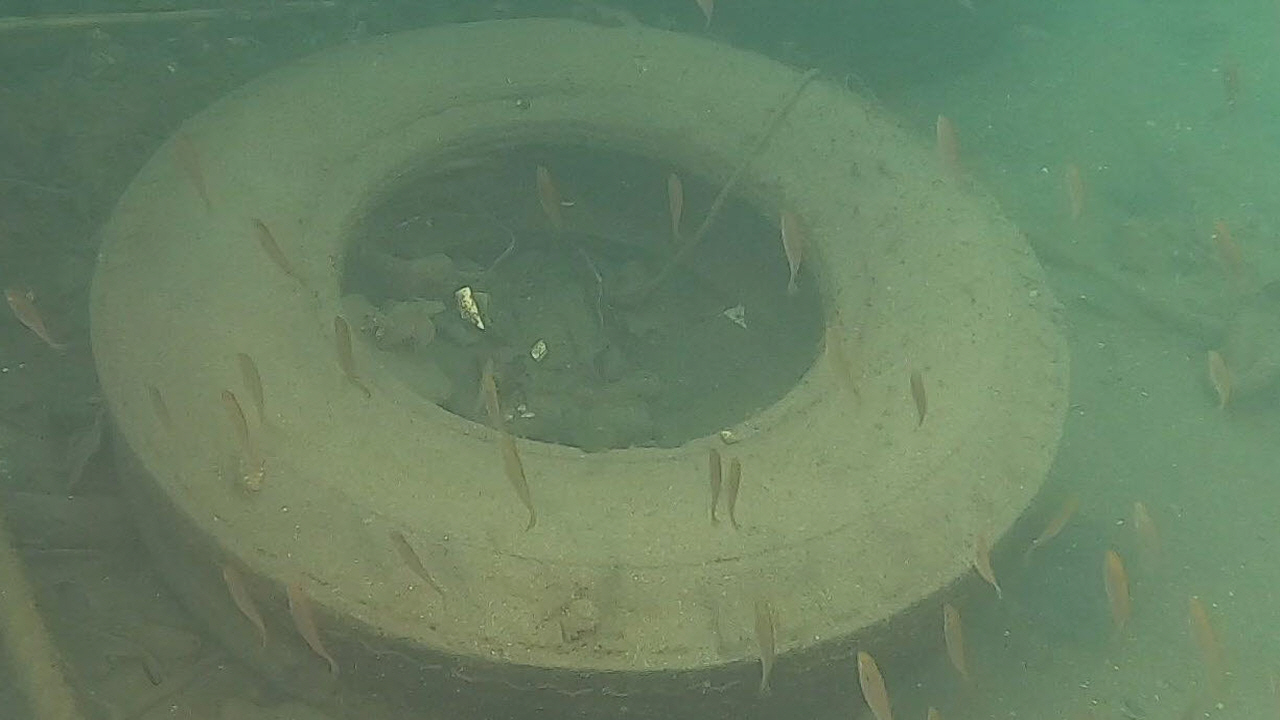tire: (87, 14, 1070, 720)
